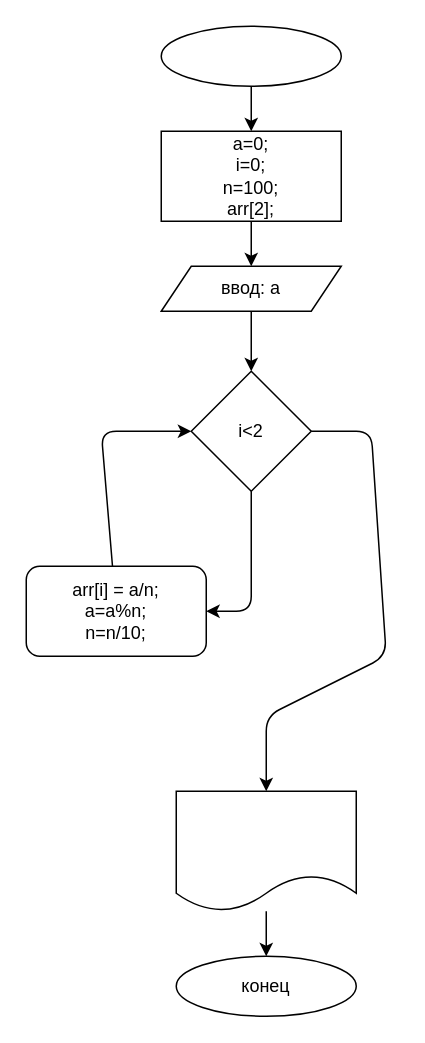
Image size: 425x1043. Some labels were removed from this diagram. Each missing label, with the centre of its shape:
вывод: arr[1]: point 265,850
начало: point 250,55
